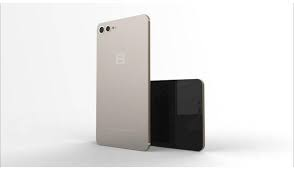bphone: (92, 10, 155, 154)
